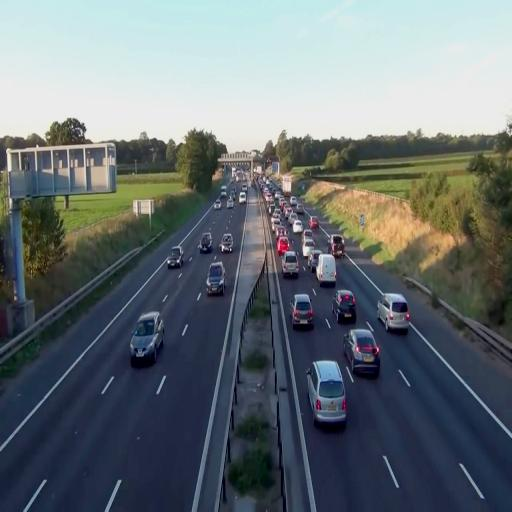vehicle: (307, 358, 347, 427), (129, 310, 164, 366), (343, 326, 380, 378), (378, 292, 410, 333), (291, 292, 314, 329), (333, 290, 357, 323), (206, 262, 226, 296), (316, 254, 337, 286), (281, 251, 299, 278), (166, 247, 183, 271), (219, 232, 234, 254), (199, 231, 213, 253)
